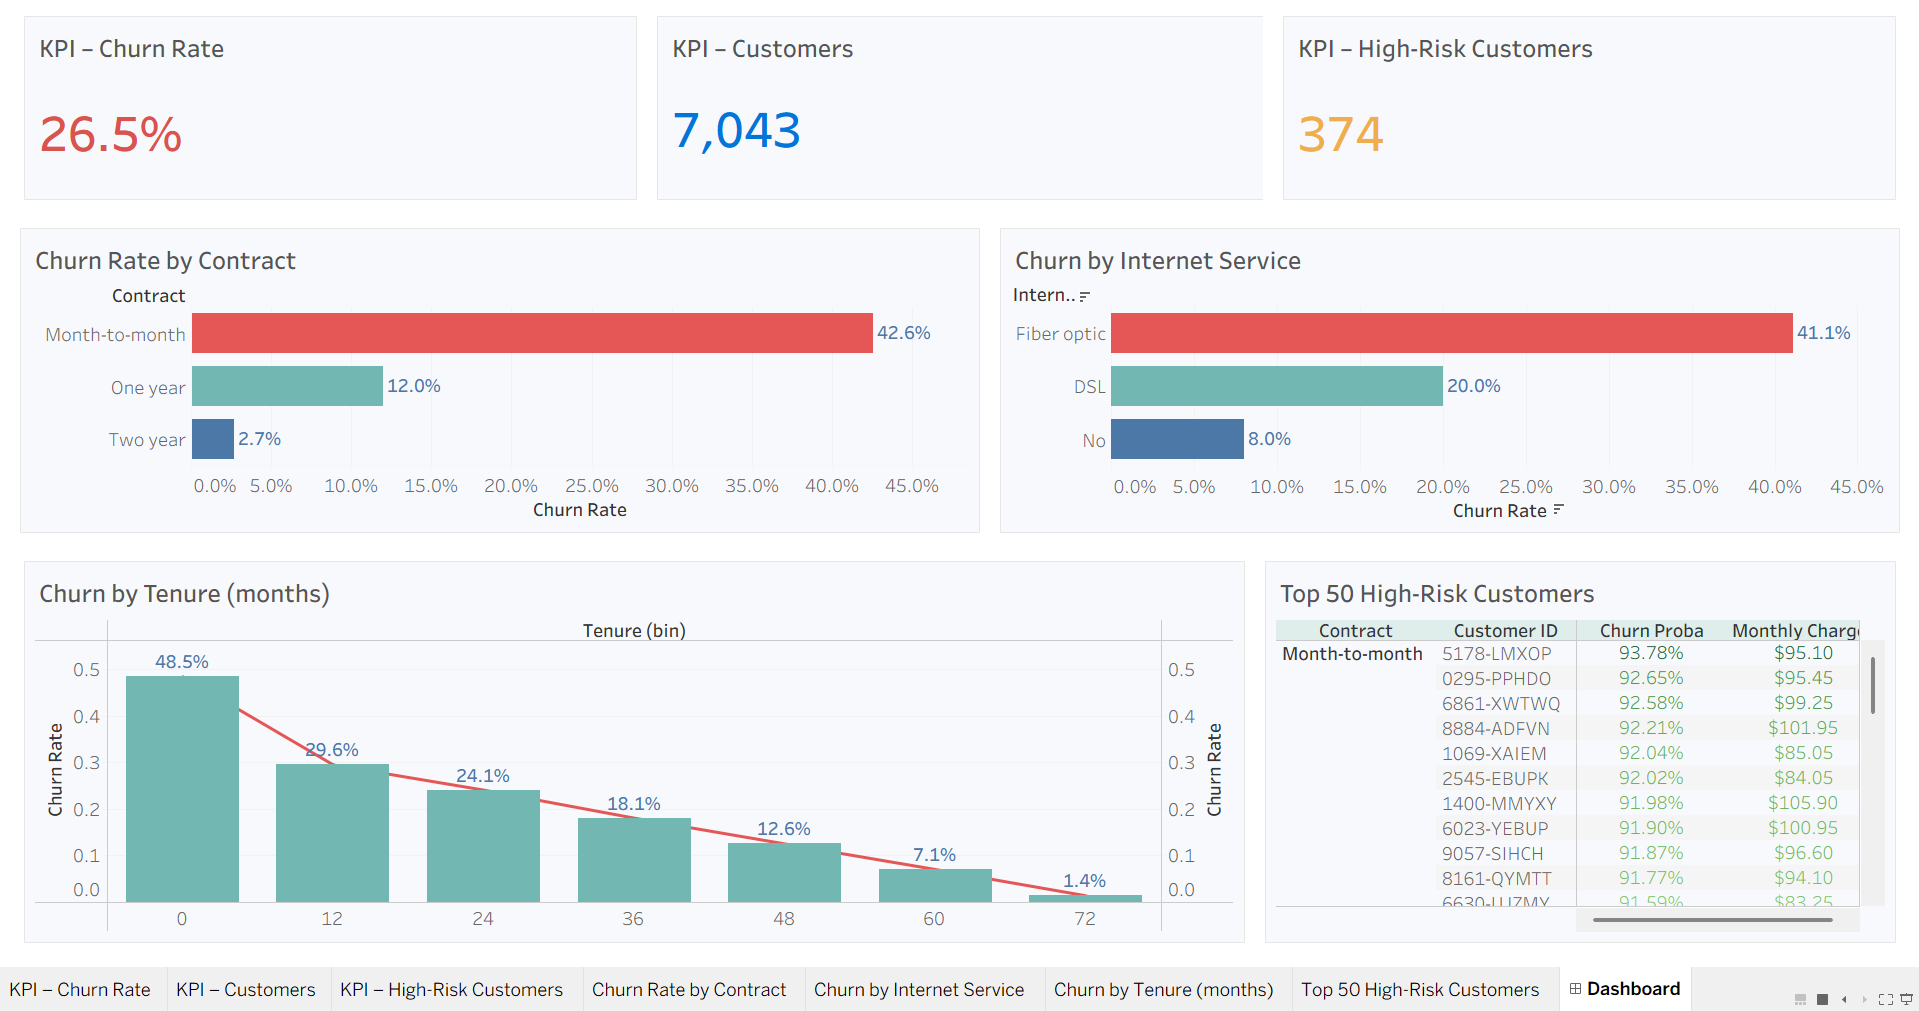

Layout of this report page (visuals, bound fields, positions):
{"tool":"tableau","page":{"name":"Dashboard","canvas":[1000,1000],"units":"permille","ordinal":0},"visuals":[{"type":"worksheet","title":"KPI – Churn Rate","mark":"Automatic","box":[12.5,26.8,325,188.3]},{"type":"worksheet","title":"KPI – Customers","mark":"Automatic","box":[337.5,26.8,325,188.3]},{"type":"worksheet","title":"KPI – High‑Risk Customers","mark":"Automatic","box":[662.5,26.8,325,188.3]},{"type":"worksheet","title":"Churn Rate by Contract","mark":"Bar","rows":["Contract"],"cols":["Calculation_857654300008960004"],"box":[12.5,247.3,506.2,303.1]},{"type":"worksheet","title":"Churn by Internet Service","mark":"Bar","rows":["InternetService"],"cols":["Calculation_857654300008960004"],"box":[518.7,247.3,468.8,303.1]},{"type":"worksheet","title":"Churn by Tenure (months)","mark":"Automatic","rows":["Calculation_857654300008960004","Calculation_857654300008960004"],"cols":["Tenure (bin)"],"box":[12.5,582.6,572.9,390.6]},{"type":"worksheet","title":"Top 50 High-Risk Customers","mark":"Automatic","rows":["Contract","customerID"],"box":[585.4,582.6,402.1,390.6]}]}

Visuals, with their boxes on the dashboard's canvas, which has no fixed pixel size, in thousandths of its width and height (x1, y1, x2, y2). These are canvas units, not pixel positions in the 1919x1011 screenshot, which may show the page scaled, cropped or inside an application window:
"KPI – Churn Rate" worksheet: select_region(12, 27, 338, 215)
"KPI – Customers" worksheet: select_region(338, 27, 662, 215)
"KPI – High‑Risk Customers" worksheet: select_region(662, 27, 988, 215)
"Churn Rate by Contract" worksheet (Bar marks): select_region(12, 247, 519, 550)
"Churn by Internet Service" worksheet (Bar marks): select_region(519, 247, 988, 550)
"Churn by Tenure (months)" worksheet: select_region(12, 583, 585, 973)
"Top 50 High-Risk Customers" worksheet: select_region(585, 583, 988, 973)
